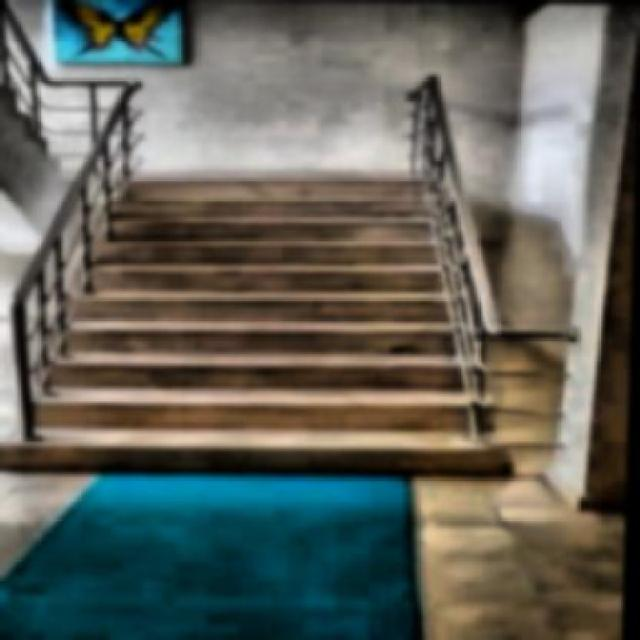stair: (0, 171, 514, 480)
